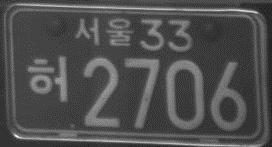0: (166, 59, 207, 131)
2: (81, 56, 122, 129)
3: (166, 18, 195, 53), (137, 18, 165, 49)
6: (210, 61, 249, 132)
7: (123, 57, 162, 132)
서울_O: (74, 15, 132, 48)
허: (26, 54, 70, 103)
